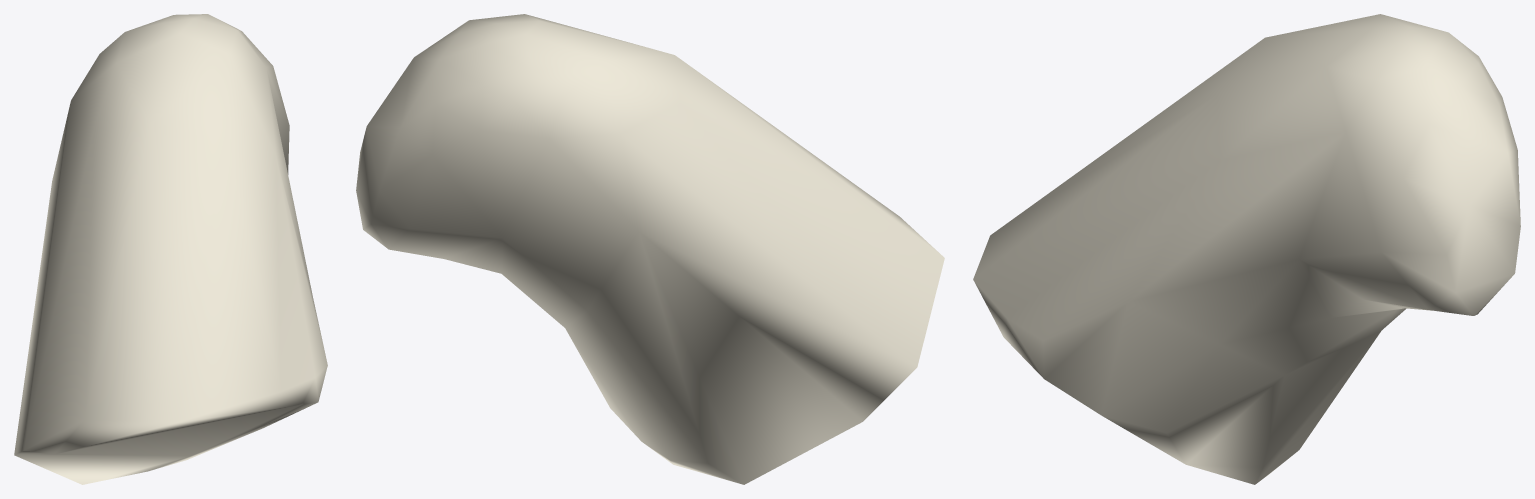
The picture shows the model from 3 angles, left to right: view 1: azimuth 30°, elevation 25°; view 2: azimuth 150°, elevation 25°; view 3: azimuth 270°, elevation 25°; orthographic projection. The views are drawn at different scales.
Visible parts, largest first — view 1: ZA_d7db441ab3828ebb; view 2: ZA_d7db441ab3828ebb; view 3: ZA_d7db441ab3828ebb.
Part boxes in pixels (left/top/right/bottom): ZA_d7db441ab3828ebb: left=14, top=14, right=327, bottom=484; ZA_d7db441ab3828ebb: left=356, top=14, right=944, bottom=484; ZA_d7db441ab3828ebb: left=973, top=14, right=1520, bottom=484.
Bounding box in the file's own units: 0.00151 × 0.00156 × 0.00158.
